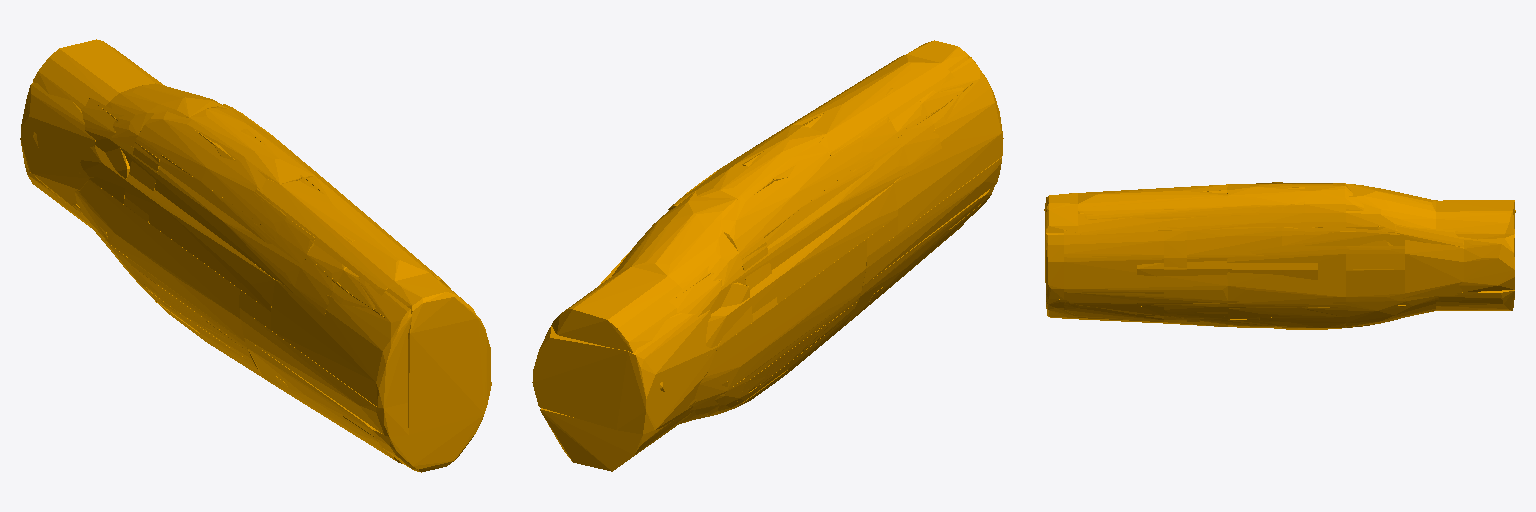
URDF robot description (bottle-nivea):
<?xml version="1.0" ?>
<robot name="bottle-nivea">
  <link name="baseLink">
    <contact>
      <lateral_friction value="1.0"/>
      <inertia_scaling value="3.0"/>
    </contact>
    <inertial>
      <origin rpy="0 0 0" xyz="0.000 0.000 0.000"/>
       <mass value=".1"/>
       <inertia ixx="1" ixy="0.0" ixz="0.0" iyy="1" iyz="0.0" izz="1"/>
    </inertial>
    <visual>
      <origin rpy="0 0 0" xyz="0 0 0"/>
      <geometry>
        <mesh filename="bottle/bottle-nivea.obj" scale="1.0 1.0 1.0"/>
      </geometry>
    </visual>
    <collision>
      <origin rpy="0 0 0" xyz="0 0 0"/>
      <geometry>
        <mesh filename="../collision/bottle/bottle-nivea.obj" scale="1.0 1.0 1.0"/>
      </geometry>
    </collision>
  </link>
</robot>
        

--- Facts derived from the render (not from the file) ---
Views: 3 orthographic renders of the robot side by side, from view 1: azimuth 30°, elevation 25°; view 2: azimuth 150°, elevation 25°; view 3: azimuth 270°, elevation 25°.
Model bottle-nivea with 1 links and 0 joints (none), rooted at baseLink, posed every joint at zero.
Links seen in each view (by area): view 1: baseLink; view 2: baseLink; view 3: baseLink.
Link boxes in pixels (bbox=[...]): baseLink: bbox=[20, 39, 491, 472]; baseLink: bbox=[532, 40, 1003, 471]; baseLink: bbox=[1044, 182, 1515, 329].
Bounding box of the posed robot: 0.0369 × 0.1955 × 0.0647 m (x, y, z).
1 mesh visuals loaded from 1 distinct referenced files (1 OBJ).